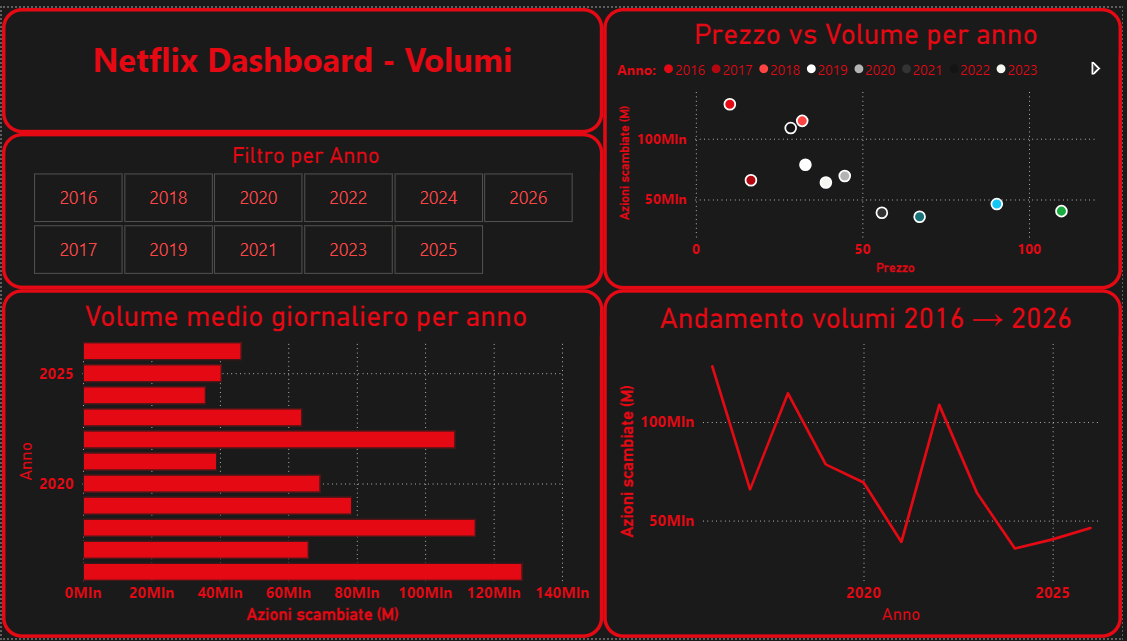

This screenshot's page, from the dashboard's own definition file:
{"tool":"powerbi","page":{"name":"Volumi","canvas":[1280,720],"ordinal":2},"visuals":[{"type":"clusteredBarChart","title":"Volume medio giornaliero per anno","fields":{"Category":["NFLX.Anno"],"Y":["Avg(NFLX.volume)"]},"box":[0,321.4,687.1,398.6],"z":0},{"type":"lineChart","title":"Andamento volumi 2016 → 2026","fields":{"Category":["NFLX.Anno"],"Y":["Avg(NFLX.volume)"]},"box":[687.1,321.4,592.9,398.6],"z":1},{"type":"scatterChart","title":"Prezzo vs Volume per anno","fields":{"X":["NFLX.close"],"Y":["Avg(NFLX.volume)"],"Series":["NFLX.Anno"]},"box":[687.1,0,592.9,321.4],"z":2},{"type":"slicer","title":"Filtro per Anno","fields":{"Values":["NFLX.Anno"]},"box":[0,142.9,687.1,178.6],"z":3},{"type":"textbox","box":[0,0,687.1,142.9],"z":4}]}

Visuals, with their boxes in screenshot pixels (x1, y1, x2, y2), scaled from the page's 1280x720 canvas onto the 1127x641 screenshot:
"Volume medio giornaliero per anno" clusteredBarChart: select_region(0, 286, 605, 640)
"Andamento volumi 2016 → 2026" lineChart: select_region(605, 286, 1126, 640)
"Prezzo vs Volume per anno" scatterChart: select_region(605, 0, 1126, 286)
"Filtro per Anno" slicer: select_region(0, 127, 605, 286)
textbox: select_region(0, 0, 605, 127)
